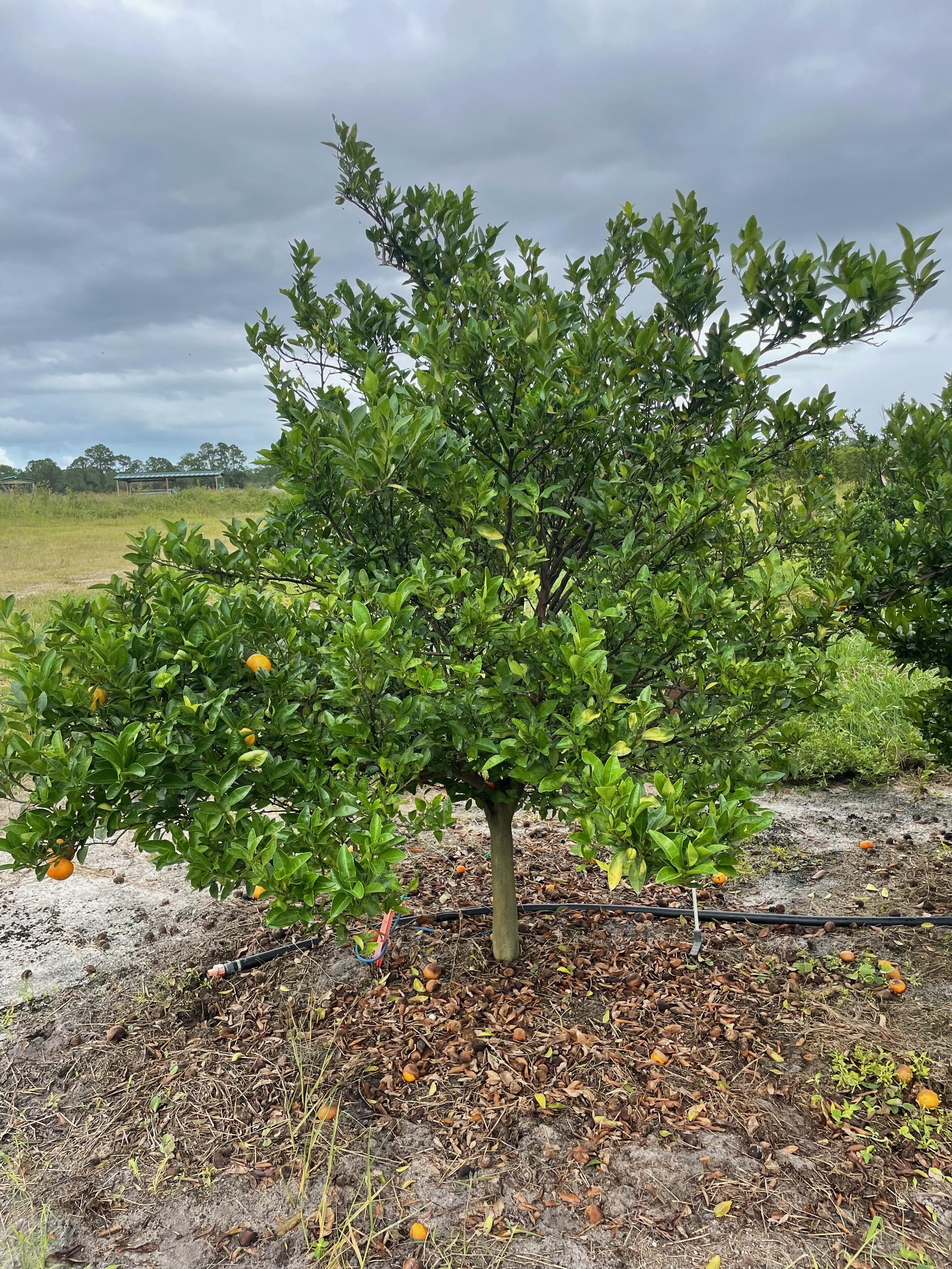fruit_on_ground: (44, 832, 78, 864), (44, 852, 75, 883), (244, 650, 274, 678), (231, 724, 259, 748), (249, 881, 271, 901), (710, 869, 728, 885)
fruit_on_tree: (915, 1087, 941, 1112), (891, 1062, 915, 1085), (406, 1219, 429, 1243), (315, 1101, 340, 1123), (583, 1201, 605, 1224), (105, 1024, 129, 1044), (422, 960, 443, 981), (401, 1062, 422, 1082), (887, 975, 908, 995), (649, 1047, 670, 1065), (421, 975, 441, 993), (883, 967, 902, 984), (838, 948, 857, 963), (858, 837, 873, 850), (822, 919, 836, 932), (454, 862, 468, 875)
